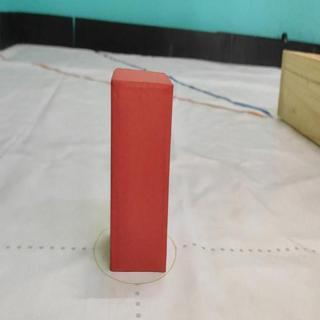redbox: (111, 67, 175, 273)
